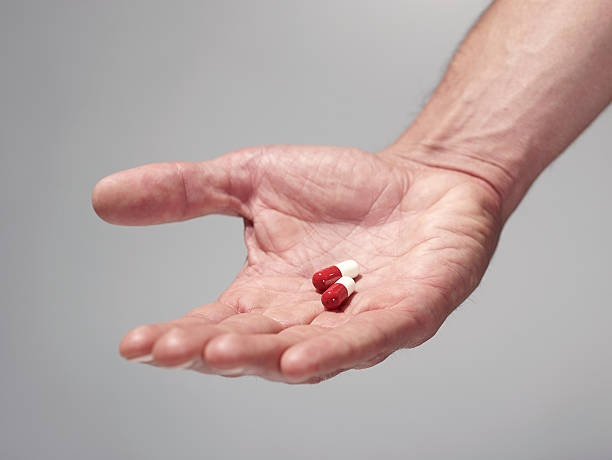pills: (302, 256, 360, 289), (318, 278, 365, 312)
